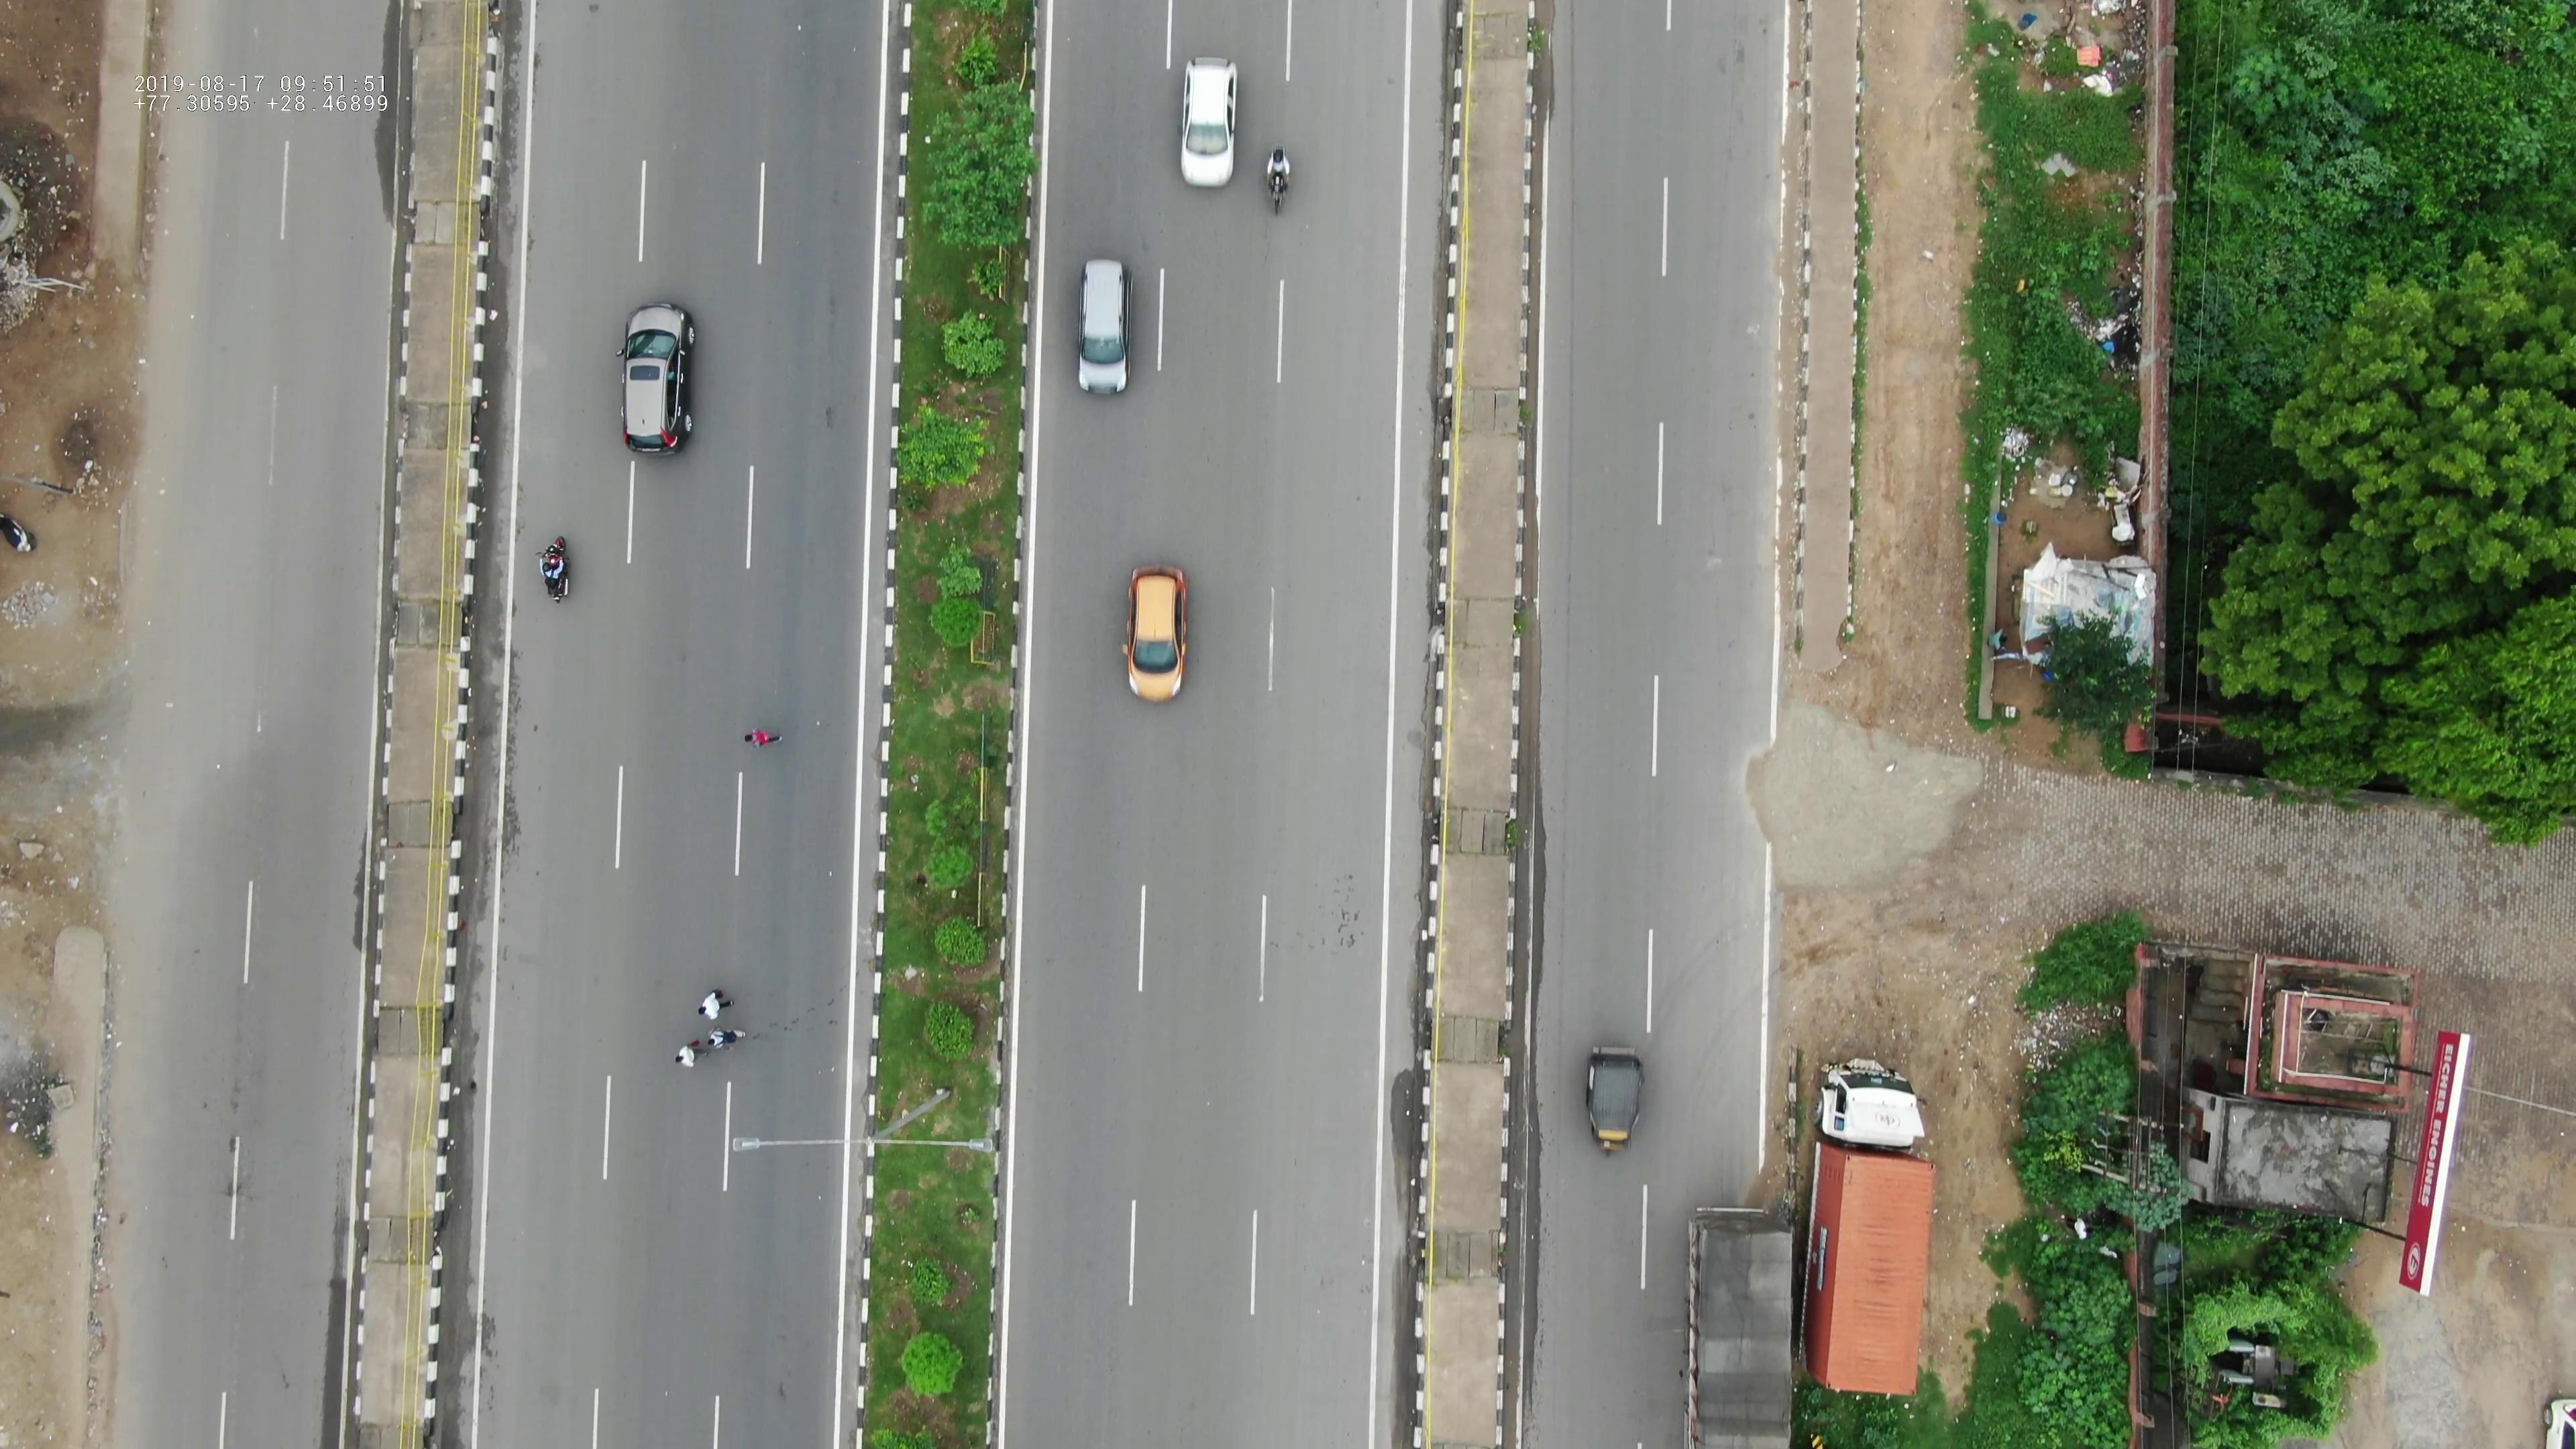Alligator_cracks: (1716, 718, 1828, 908)
Muddy_road: (1766, 165, 1819, 419), (1760, 455, 1812, 656)
